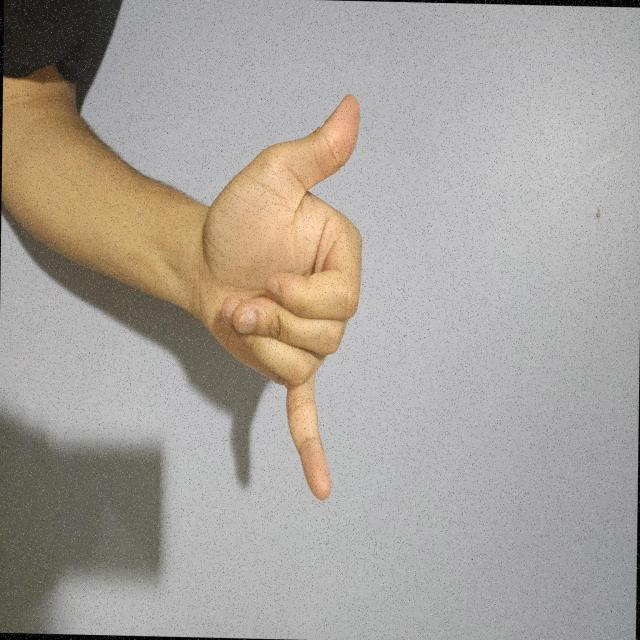Y: (215, 257, 564, 616)
